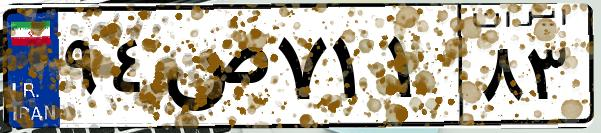1: (385, 28, 445, 110), (330, 28, 385, 110)
3: (525, 38, 570, 115)
4: (110, 28, 158, 98)
7: (270, 28, 330, 110)
8: (475, 38, 525, 113)
9: (57, 26, 110, 100)
ص: (158, 20, 270, 120)
